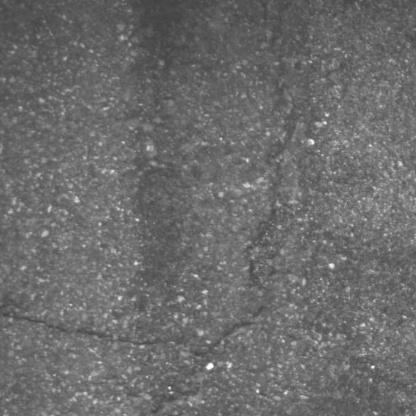Cracks: (0, 298, 268, 360), (251, 258, 270, 293)
